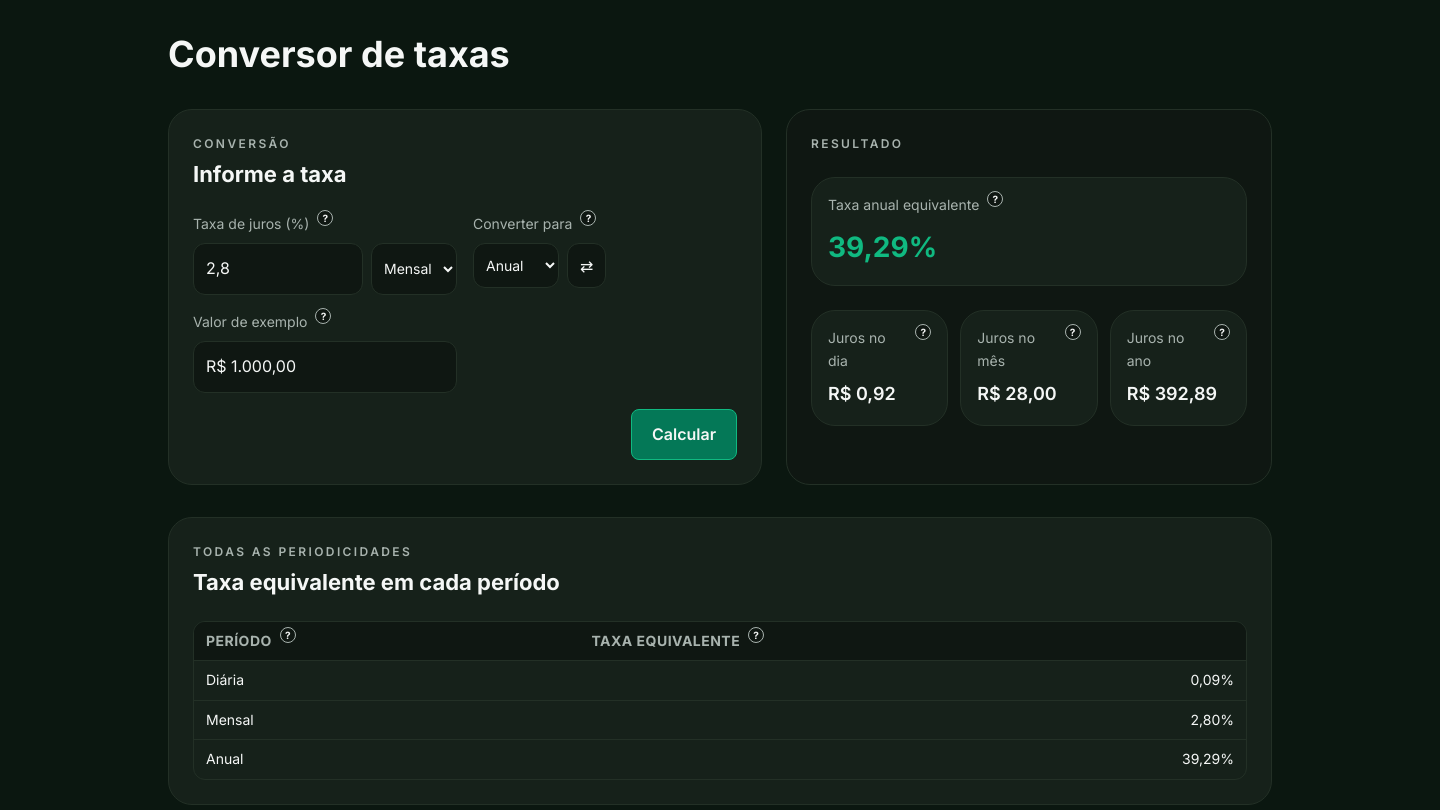
Test: RateConverter › swaps the source and target periods
The image size is (1440, 810).
Click the button named "Inverter periodicidades" at (587, 266), box [567,243,606,288]
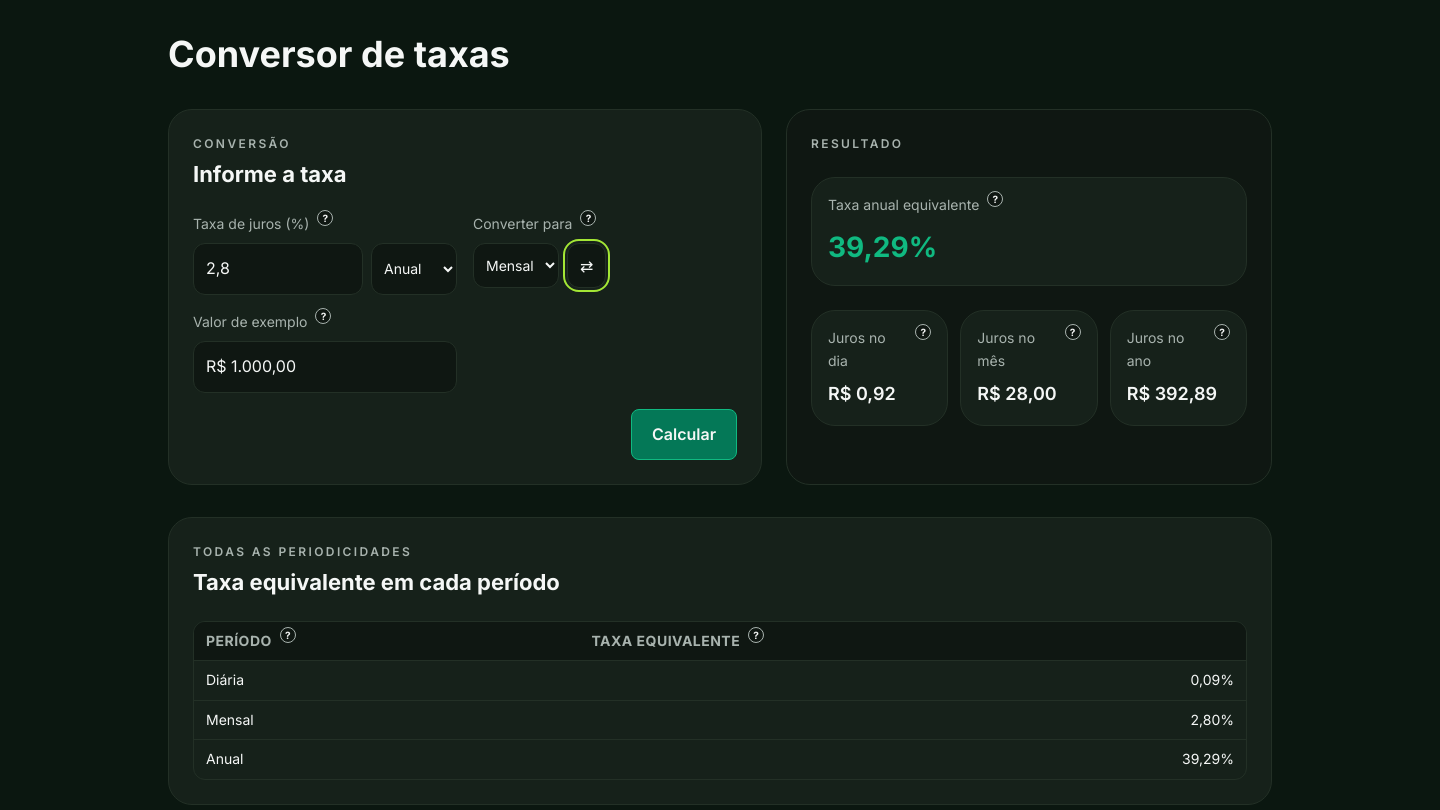
Now the dropdown named "Periodicidade da taxa" shows "Anual", box [371,243,457,295]
Now the dropdown labelled "Converter para" shows "Mensal", box [473,243,559,288]
